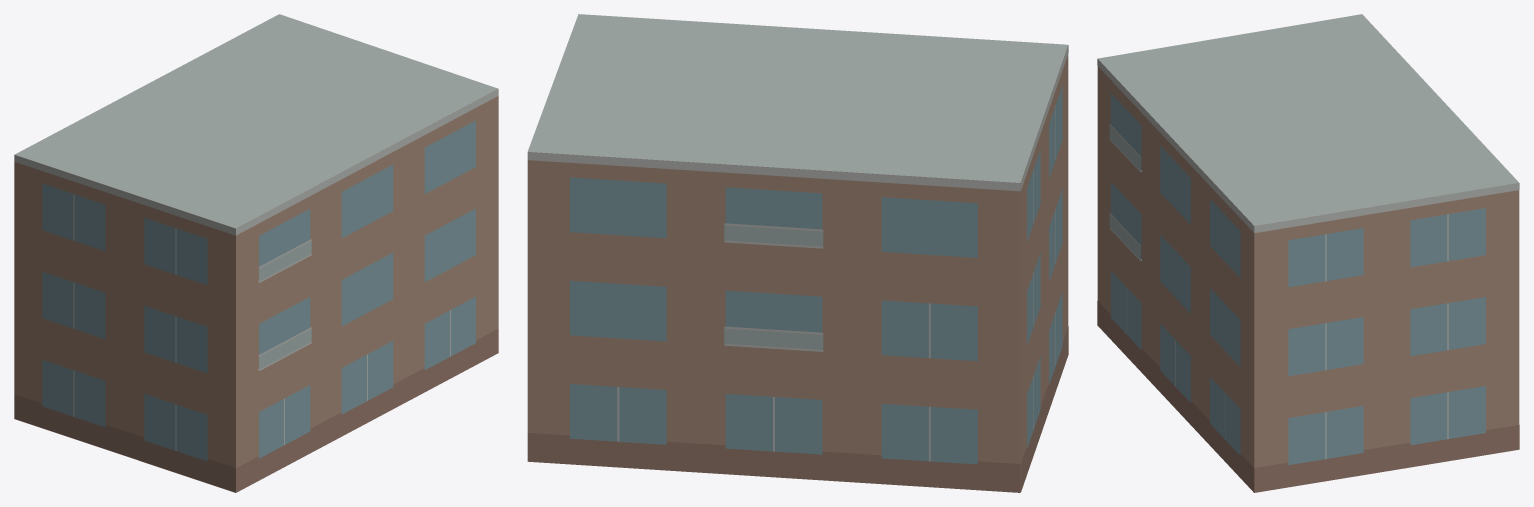
Rendered from survey-upis-32722766.glb.
The picture shows the model from 3 angles, left to right: view 1: azimuth 30°, elevation 25°; view 2: azimuth 150°, elevation 25°; view 3: azimuth 270°, elevation 25°; orthographic projection. The views are drawn at different scales.
Visible parts, largest first — view 1: survey-upis-32722766.tmp; view 2: survey-upis-32722766.tmp; view 3: survey-upis-32722766.tmp.
Part boxes in pixels (bbox=[...]): survey-upis-32722766.tmp: bbox=[14, 14, 498, 492]; survey-upis-32722766.tmp: bbox=[527, 14, 1068, 492]; survey-upis-32722766.tmp: bbox=[1097, 14, 1519, 492].
Bounding box in the file's own units: 15.62 × 9.15 × 13.13.
